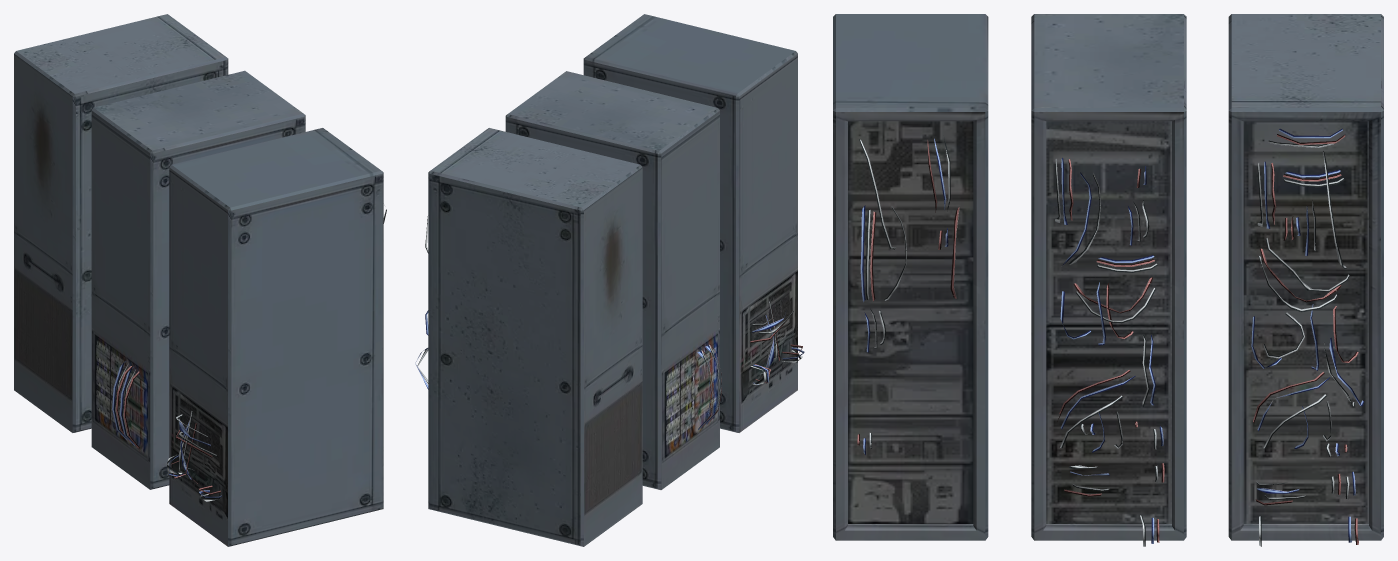
File: network_racks.glb
The picture shows the model from 3 angles, left to right: view 1: azimuth 30°, elevation 25°; view 2: azimuth 150°, elevation 25°; view 3: azimuth 270°, elevation 25°; orthographic projection. The views are drawn at different scales.
Visible parts, largest first — view 1: Cube.001_Material.001_0; view 2: Cube.001_Material.001_0; view 3: Cube.001_Material.001_0.
Part boxes in pixels (x1,y1,x2,y2): Cube.001_Material.001_0: (14, 14, 386, 546); Cube.001_Material.001_0: (415, 14, 804, 546); Cube.001_Material.001_0: (833, 14, 1383, 546).
Bounding box in the file's own units: 1.11 × 1.83 × 2.1.
1 material, 1 textured.
